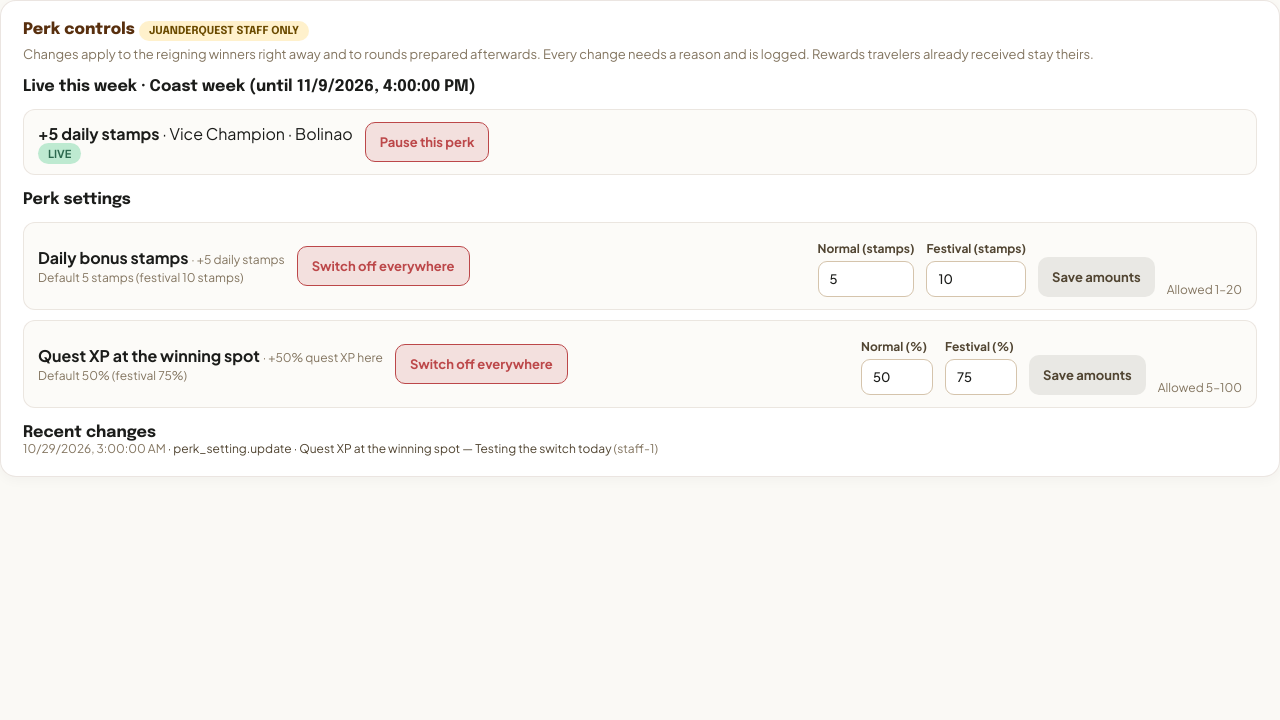
Test: JuanChoice perk controls (JuanderQuest staff only) › refuses a change without a 10-character reason
The image size is (1280, 720).
Click the button "Pause this perk" at (427,142), box left=365, top=122, right=489, bottom=162
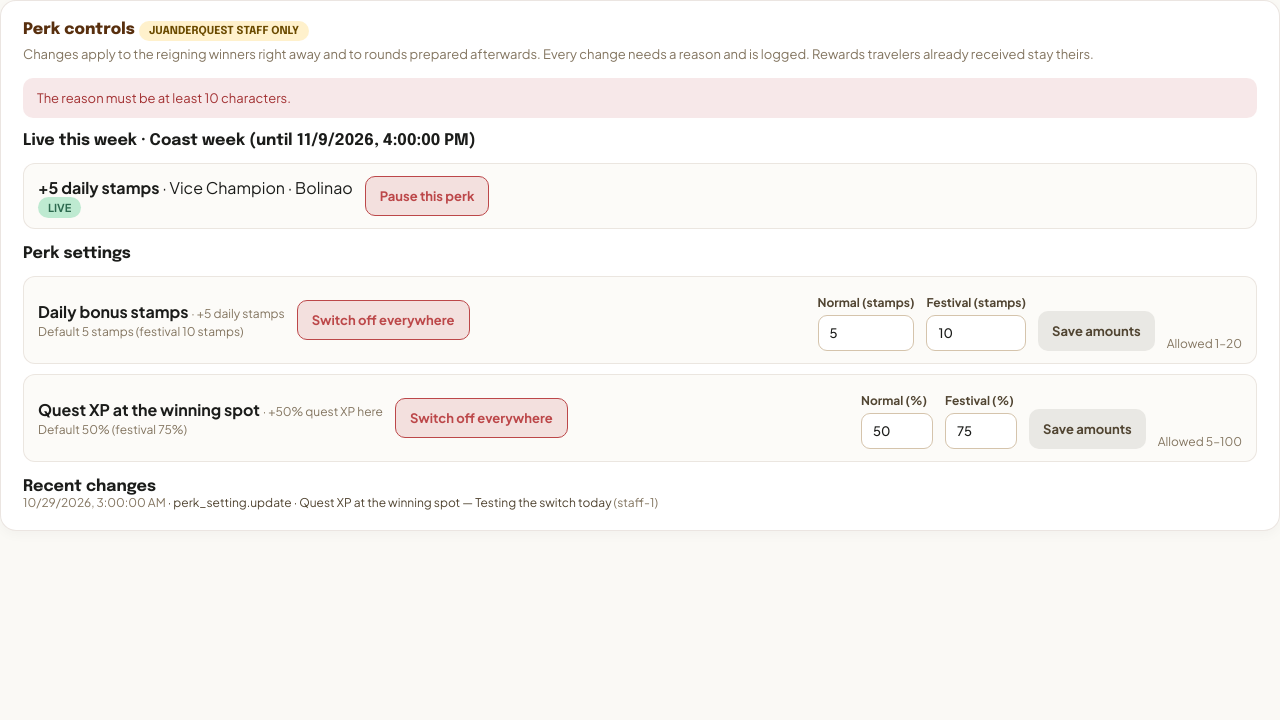
expect the message shows "at least 10 characters": met, box left=37, top=90, right=291, bottom=106
